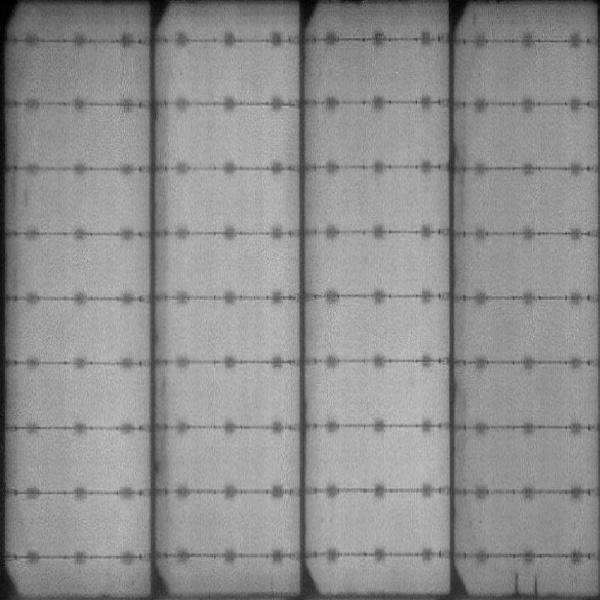scratch: (508, 570, 548, 595)
